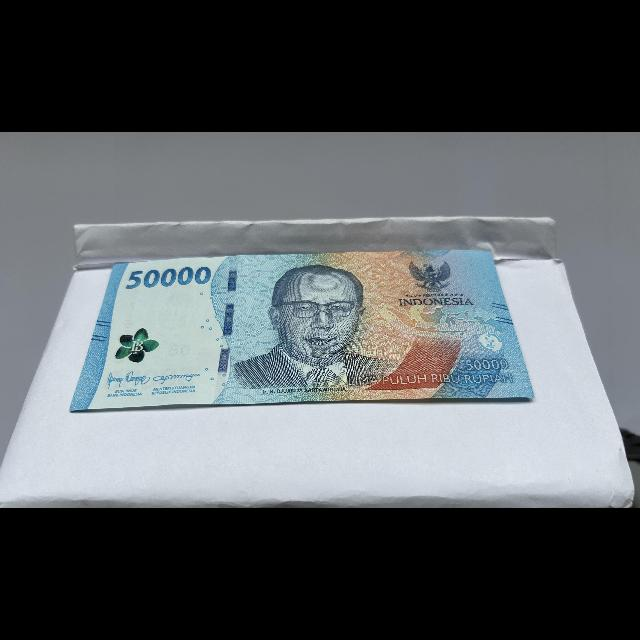Asli-50k: (59, 246, 537, 415)
Tinta-Asli-50k: (113, 324, 167, 369)
